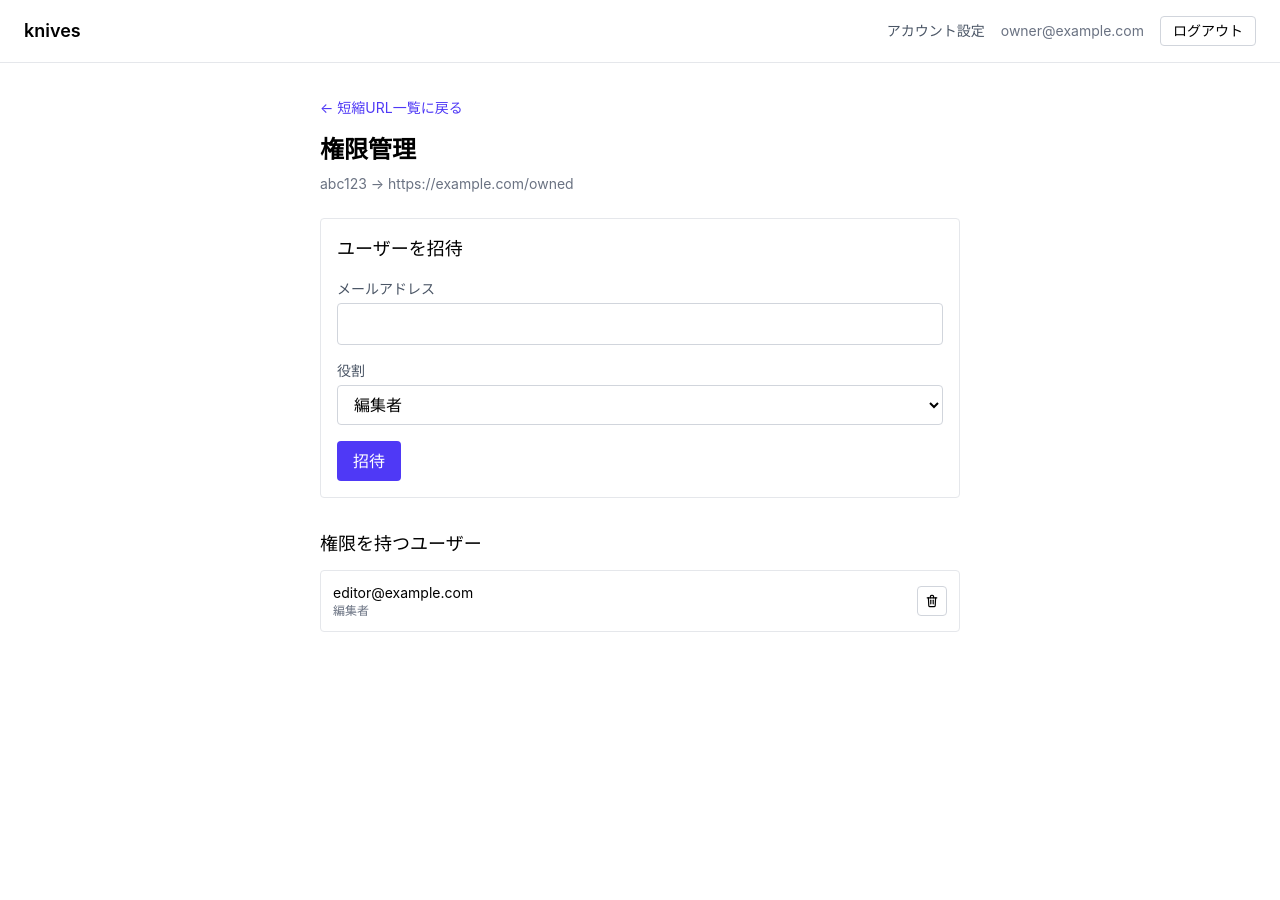
Scenario: ShortURLPermissionsPage › revokes a grant after confirmation
Expected: the text "editor@example.com" is shown, x1=333 y1=583 x2=473 y2=603
Click the button named "削除" at {"x": 932, "y": 601}, box x1=917 y1=586 x2=947 y2=616
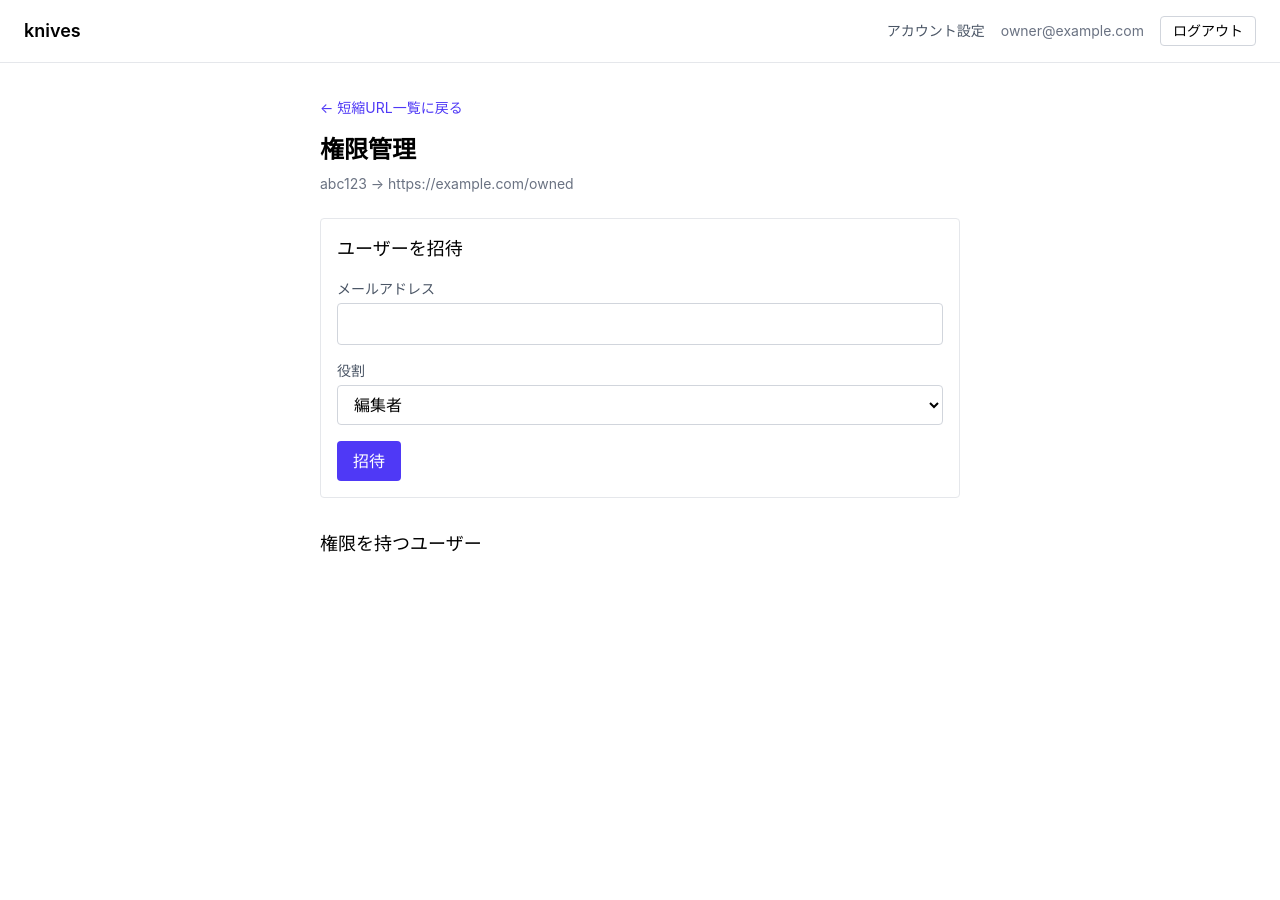
Expected: the text "editor@example.com" is gone
